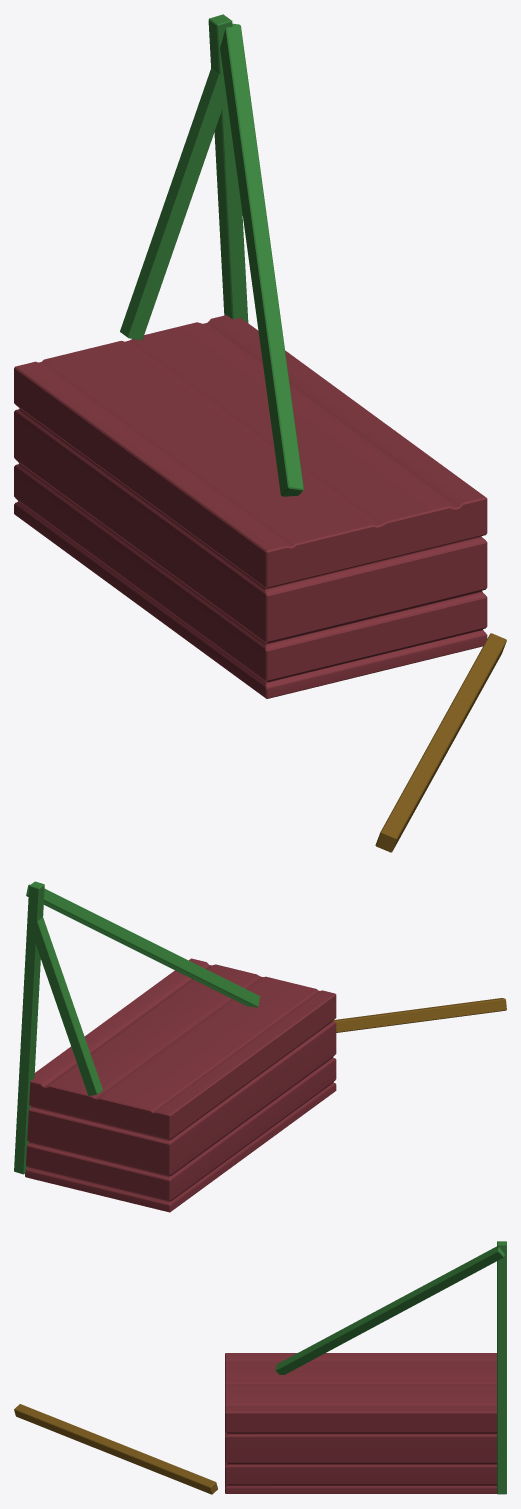
Rendered from Textured Demolished Market Stand 2.fbx.
3 views of the same model, one above another, from view 1: azimuth 30°, elevation 25°; view 2: azimuth 150°, elevation 25°; view 3: azimuth 270°, elevation 25° (orthographic). The views are drawn at different scales.
Parts seen in each view (by area): view 1: Market_Stand_Separate, pCube15, pCube6, pCube3, pCube2; view 2: Market_Stand_Separate, pCube3, pCube15, pCube6, pCube2; view 3: Market_Stand_Separate, pCube15, pCube2, pCube3.
Part boxes in pixels (bbox=[...]): Market_Stand_Separate: bbox=[14, 315, 487, 698]; pCube15: bbox=[220, 23, 303, 496]; pCube6: bbox=[120, 69, 226, 340]; pCube3: bbox=[208, 14, 248, 322]; pCube2: bbox=[375, 633, 506, 852]; Market_Stand_Separate: bbox=[25, 958, 336, 1212]; pCube3: bbox=[14, 881, 44, 1174]; pCube15: bbox=[26, 884, 260, 1007]; pCube6: bbox=[29, 917, 102, 1095]; pCube2: bbox=[333, 998, 506, 1032]; Market_Stand_Separate: bbox=[225, 1353, 496, 1493]; pCube15: bbox=[275, 1246, 504, 1374]; pCube2: bbox=[14, 1404, 217, 1494]; pCube3: bbox=[497, 1241, 506, 1494].
Bounding box in the file's own units: 2.8 × 3.87 × 6.99.
